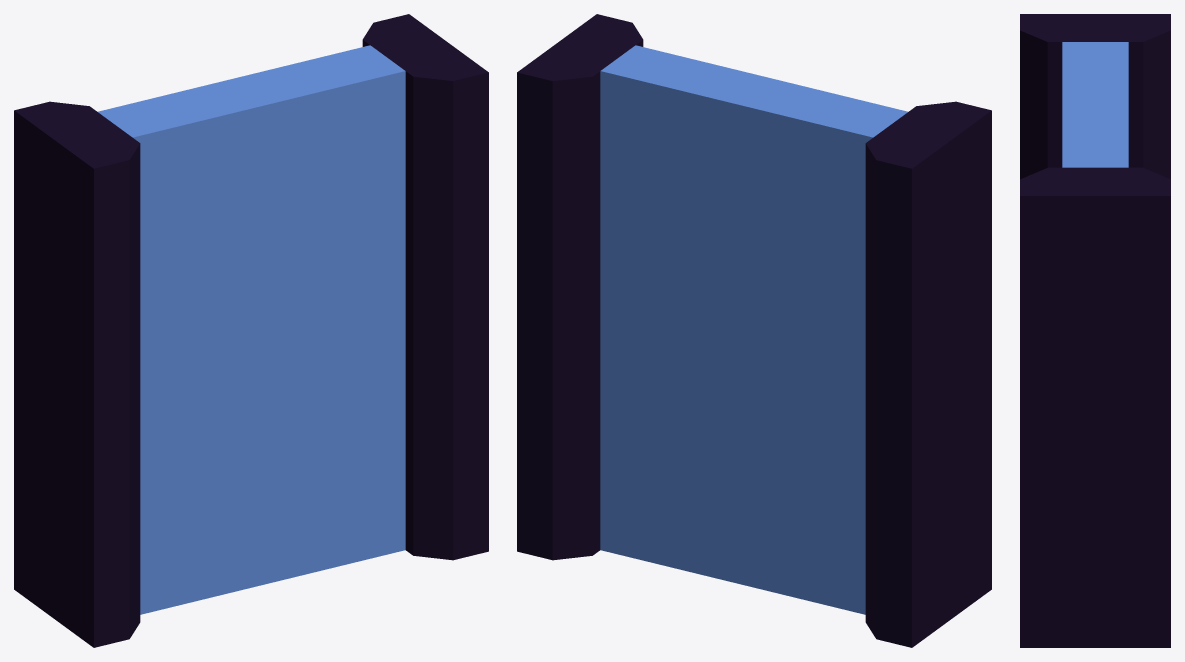
Rendered from ShieldWall.fbx.
3 renders of one model, left to right at view 1: azimuth 30°, elevation 25°; view 2: azimuth 150°, elevation 25°; view 3: azimuth 270°, elevation 25°, orthographic. The views are drawn at different scales.
Visible parts, largest first — view 1: Shield, ShieldPlanks; view 2: Shield, ShieldPlanks; view 3: ShieldPlanks, Shield.
Part boxes in pixels (x1,y1,x2,y2): Shield: (97,45,405,614); ShieldPlanks: (14,14,488,647); Shield: (600,45,908,614); ShieldPlanks: (517,14,991,647); ShieldPlanks: (1020,14,1170,647); Shield: (1062,42,1128,167).
Size of the model in its own units: 120 by 139 by 42.02.
